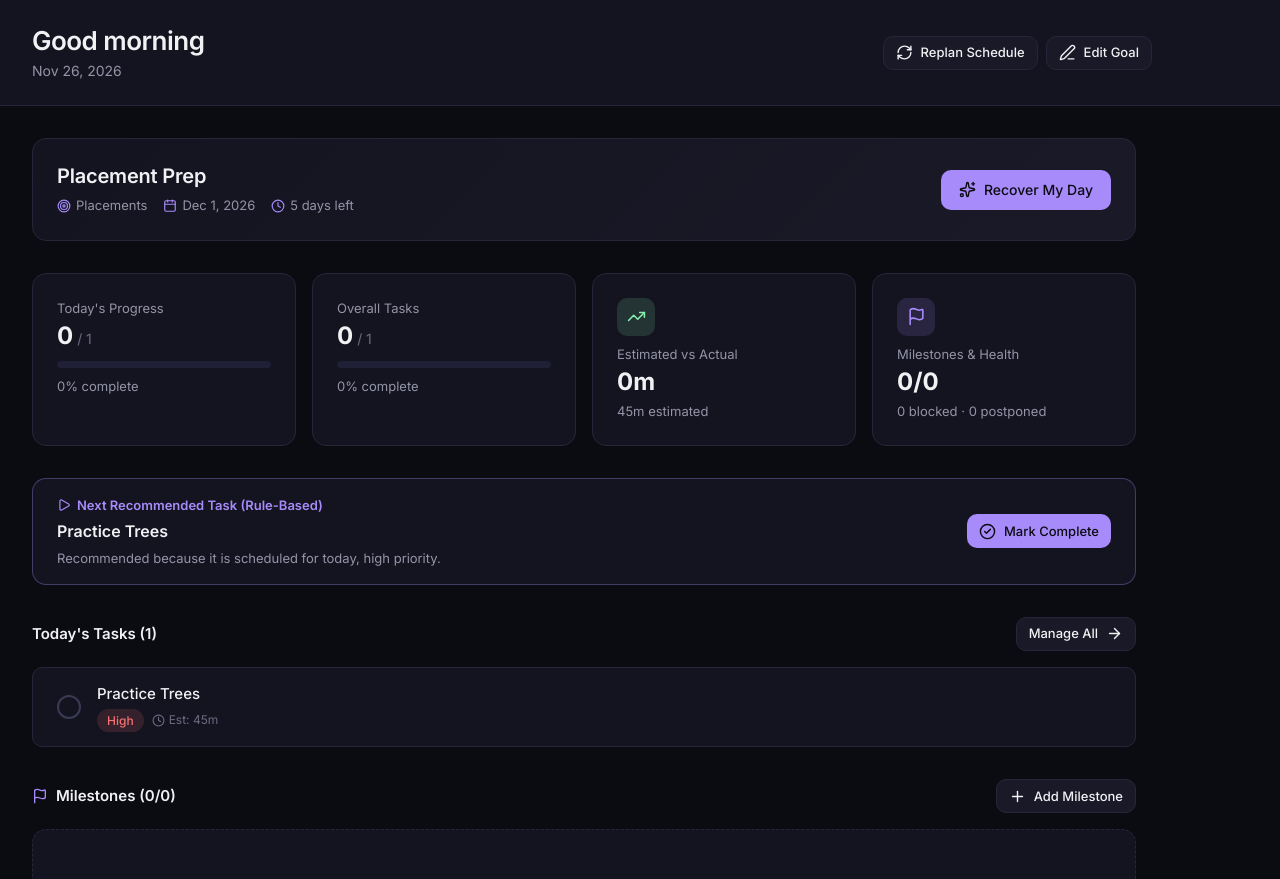
Test: Stage 3 AI Service Errors & UI Workflow › releases loading state and lock after failure so Retry AI succeeds without refresh
Click the button "Recover My Day". click: [1026, 190]
box: x1=941 y1=170 x2=1111 y2=210
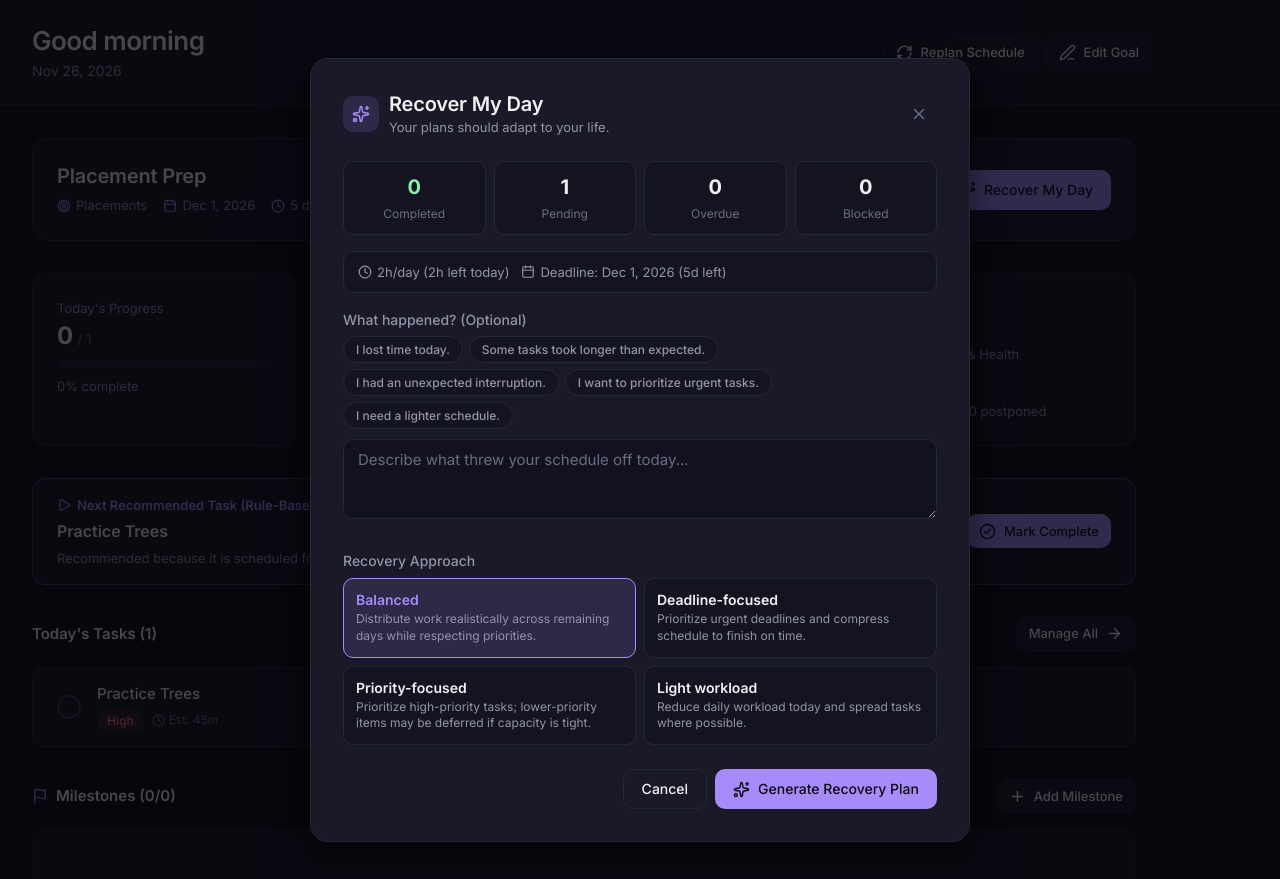
Click the button "Generate Recovery Plan". click: [826, 789]
box: x1=715 y1=769 x2=937 y2=809
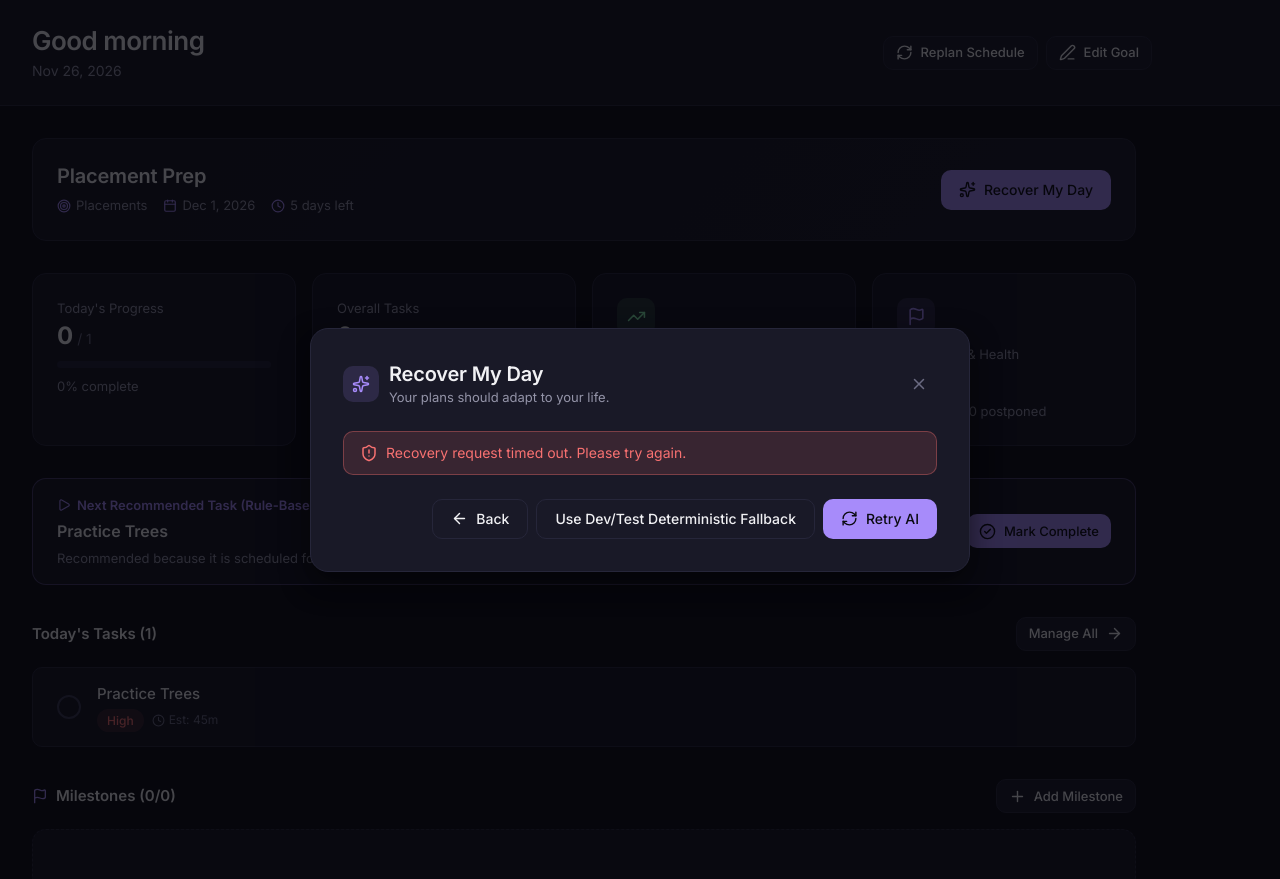
Expected: the message reads "Recovery request timed out. Please try again.", x1=386 y1=444 x2=686 y2=461
Click the button "Retry AI". click: [880, 519]
box: x1=823 y1=499 x2=937 y2=539
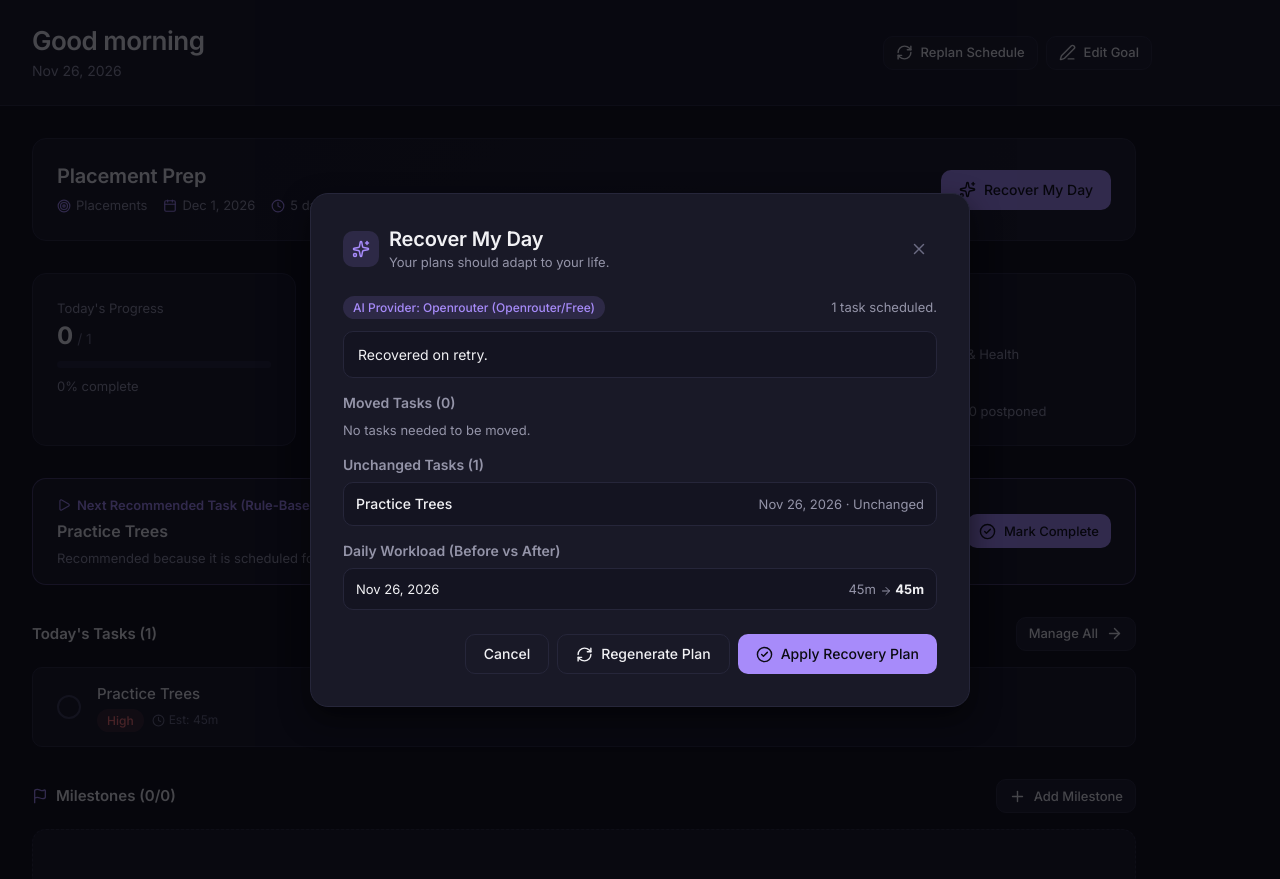
Expected: the text "Recovered on retry." is shown, x1=343 y1=331 x2=937 y2=378
